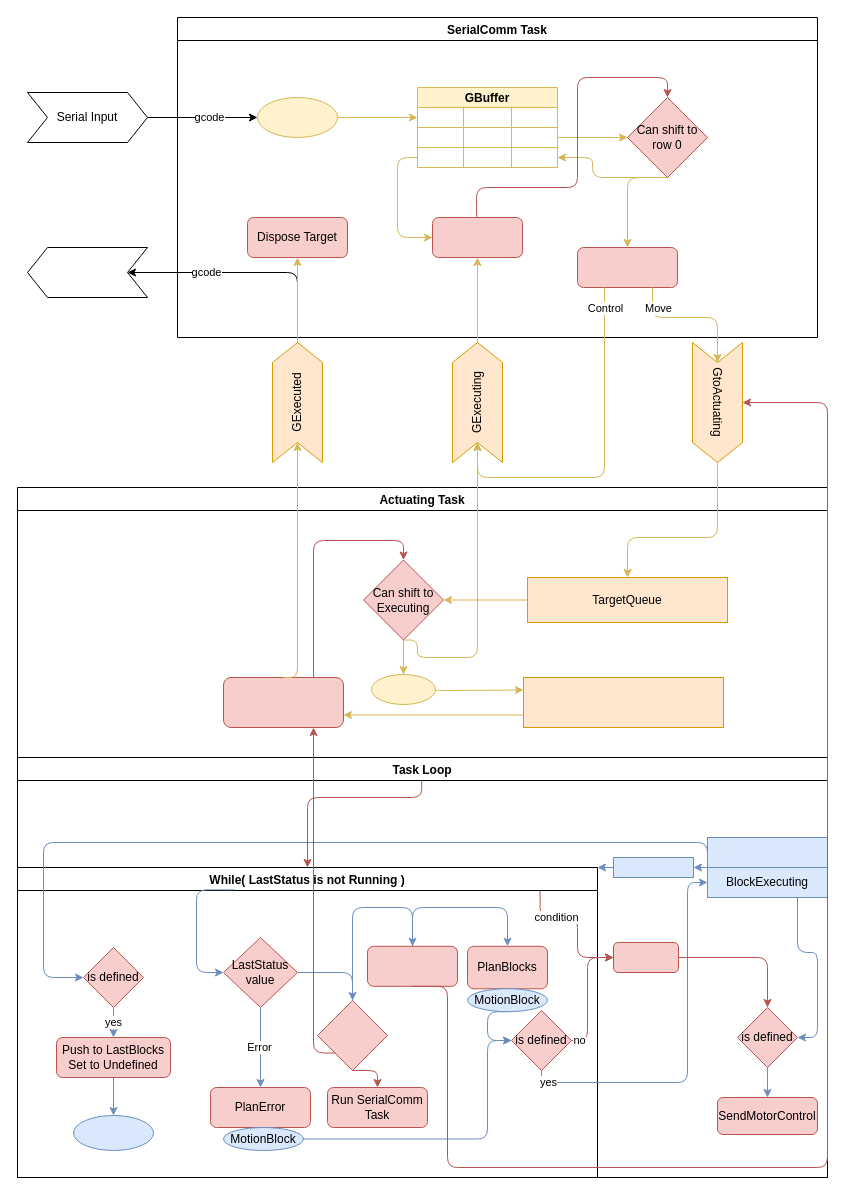
This 853x1195 diagram has some shape labels left out. Each missing label, with the centre of its shape:
"Check for new Targets" goes at [412,965].
"CheckTargets Executed" goes at [352,1035].
"Dispose Last Block" goes at [113,1132].
"Executed Target Pop from Executing" goes at [283,702].
"Finished While Loop" goes at [645,957].
"GSendToTask" goes at [627,267].
"GTarget" goes at [297,117].
"LastBlocks" goes at [767,852].
"LastStatus" goes at [653,867].
"Pop from row 0" goes at [477,237].
"Serial Output" goes at [87,272].
"SetGoals" goes at [403,689].
"TargetsExecuting" goes at [623,702].
